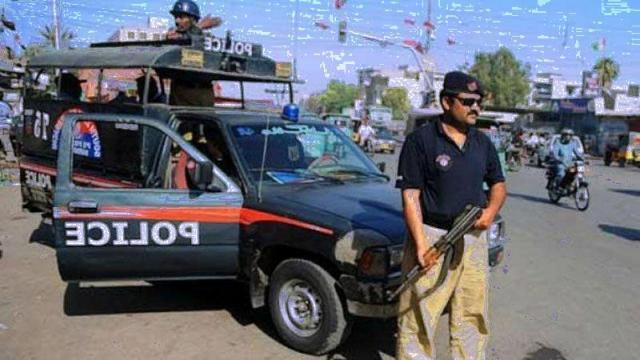police: (26, 48, 414, 349)
